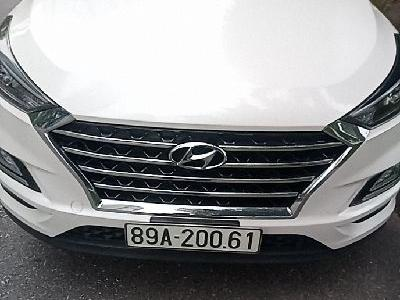car: (125, 223, 263, 257)
